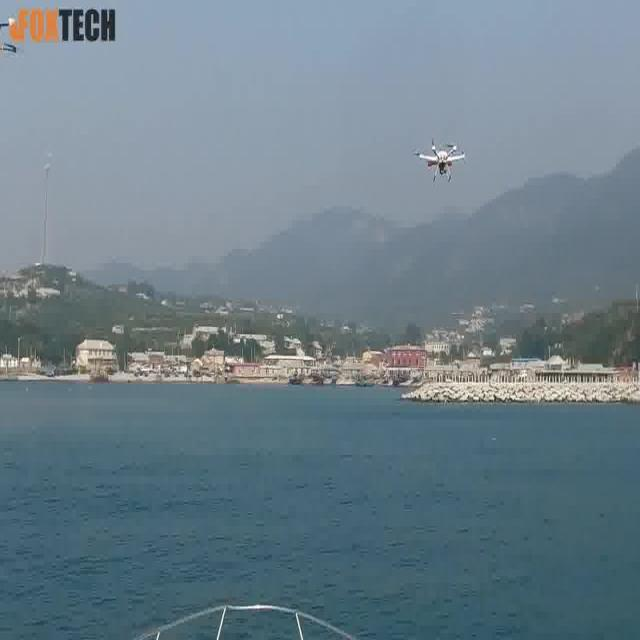drone: (413, 132, 475, 195)
